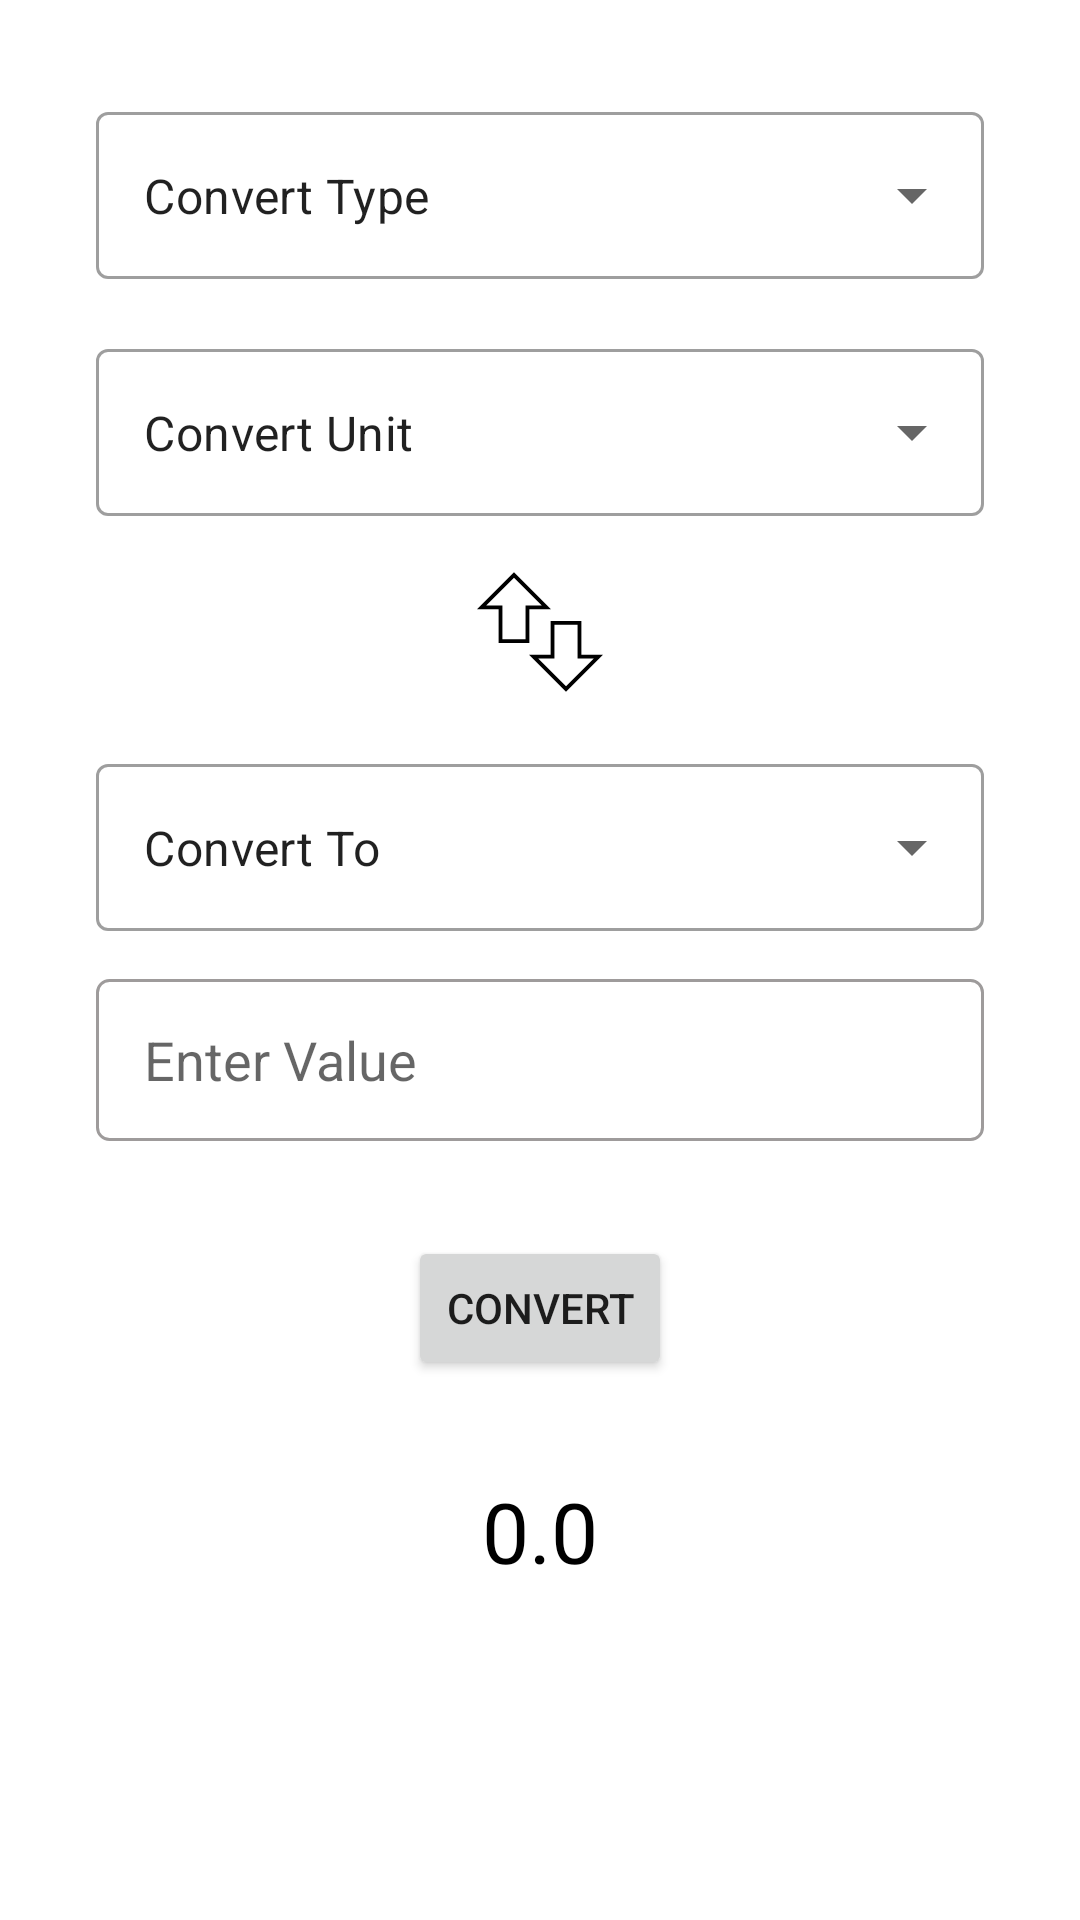

Named icons in this screenshot (1080px×1920px) and their bounding boxes, [x1, y1, x2, y2]:
arrow: [477, 572, 603, 692]
